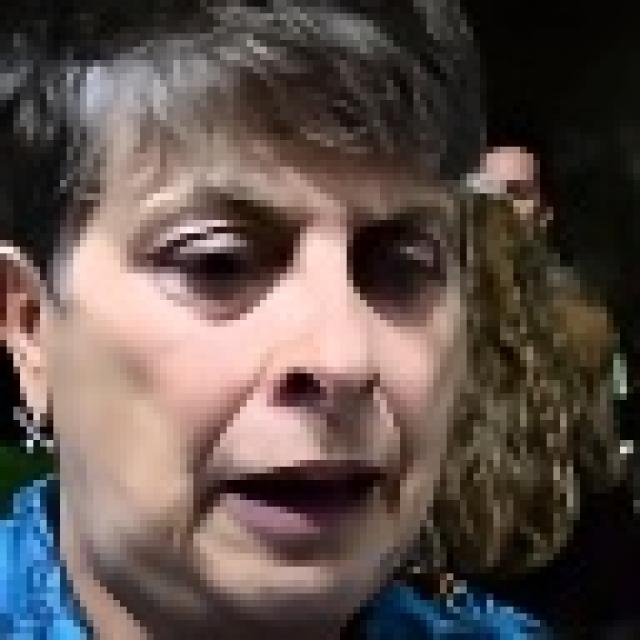angry: (49, 60, 478, 621)
